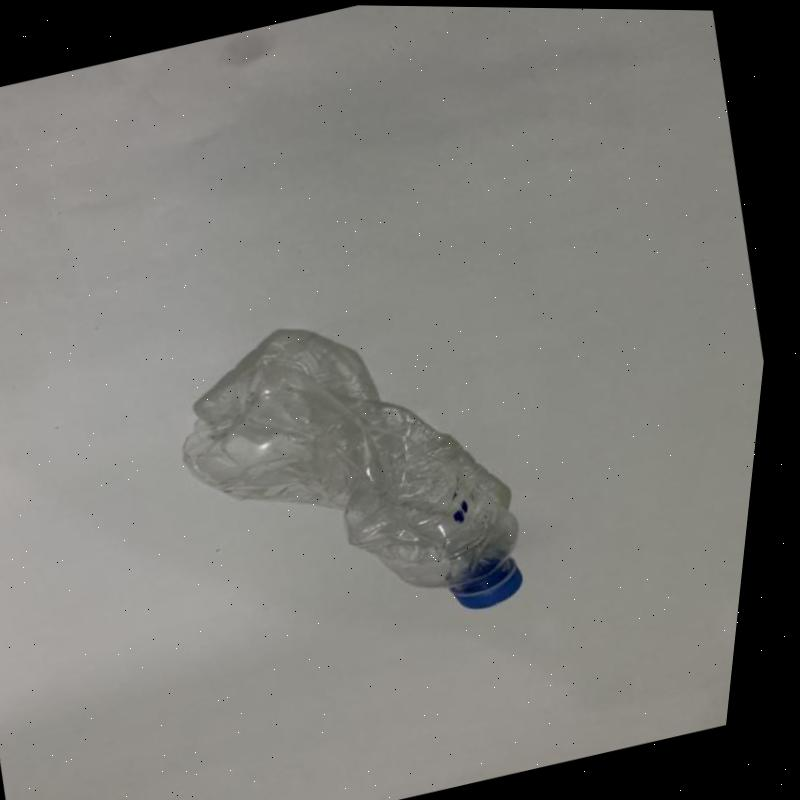botella: (154, 297, 566, 671)
